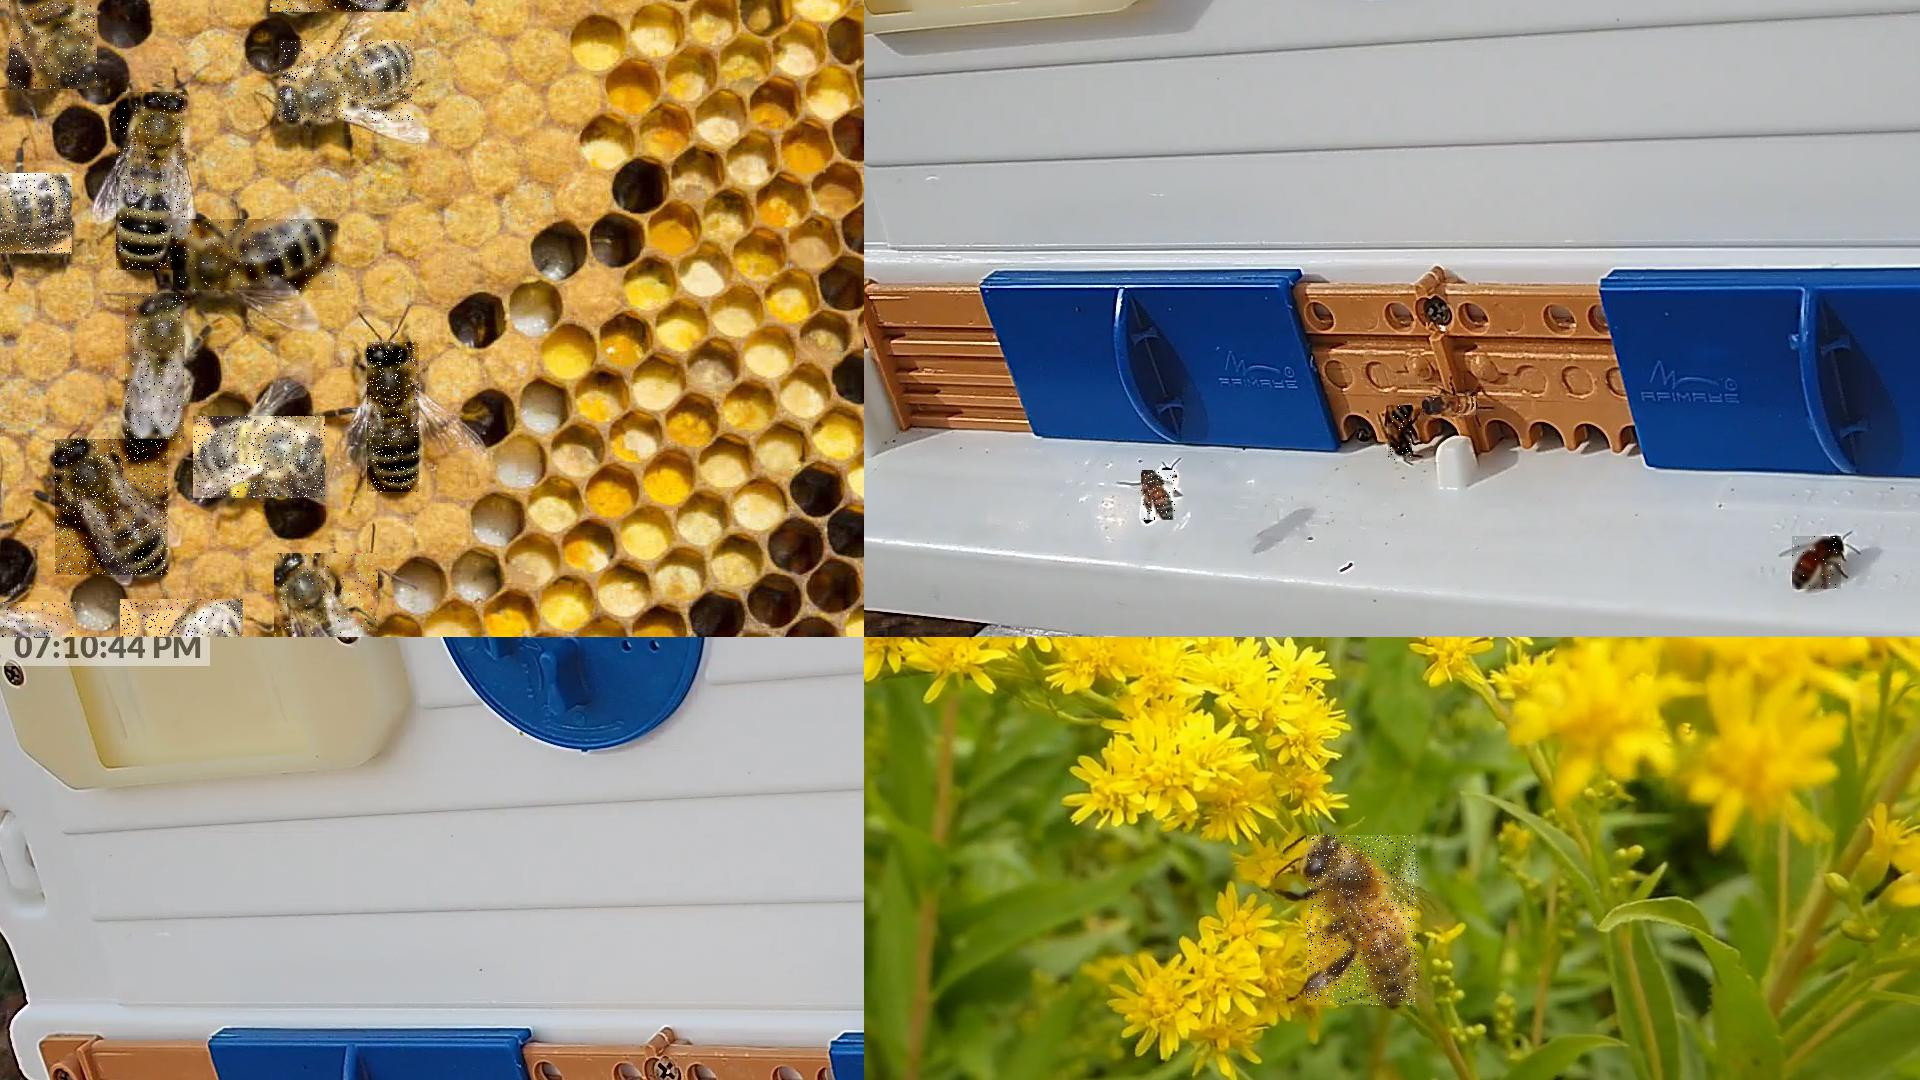bee: (1308, 836, 1420, 1006), (55, 439, 169, 576), (116, 92, 187, 272), (174, 219, 338, 291), (280, 40, 415, 123), (125, 293, 186, 451), (274, 553, 380, 636), (367, 342, 421, 493), (9, 0, 99, 91), (0, 173, 74, 256), (120, 599, 245, 636), (1792, 535, 1842, 589)
pollenbee: (193, 417, 326, 500), (1142, 469, 1178, 521), (1389, 406, 1414, 462), (1422, 396, 1477, 417)
